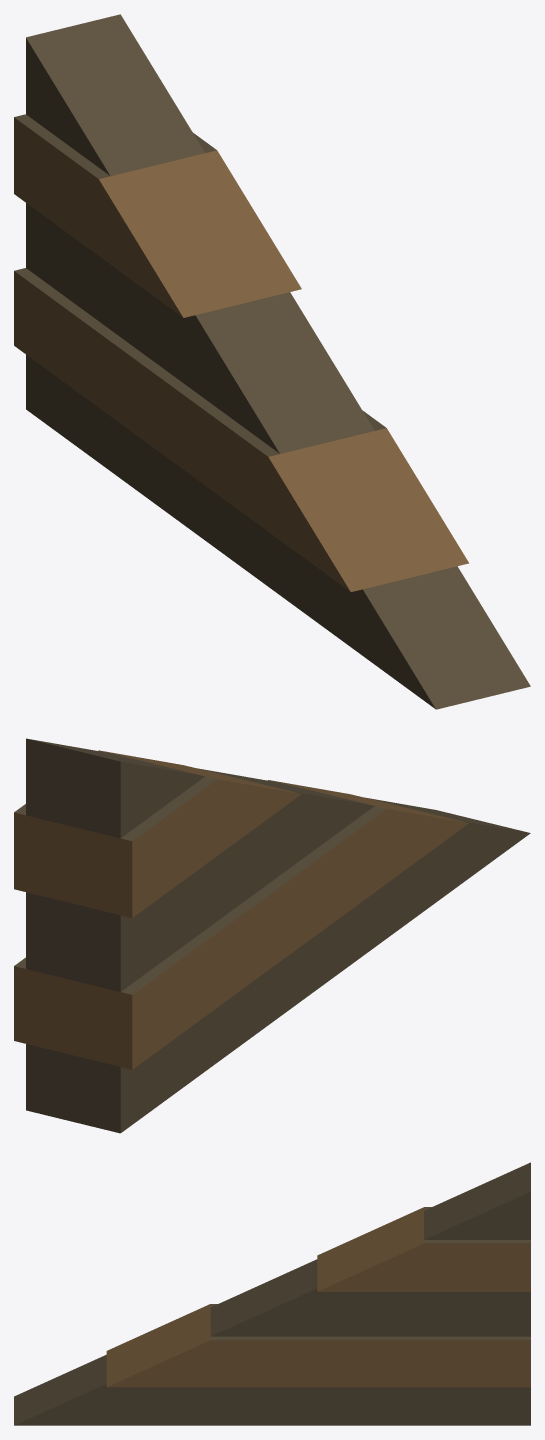
Rendered from steampunk_siding.fbx.
3 views of the same model, one above another, from view 1: azimuth 30°, elevation 25°; view 2: azimuth 150°, elevation 25°; view 3: azimuth 270°, elevation 25° (orthographic). The views are drawn at different scales.
Visible parts, largest first — view 1: Cube.039; view 2: Cube.039; view 3: Cube.039.
Part boxes in pixels (bbox=[...]): Cube.039: bbox=[14, 14, 530, 709]; Cube.039: bbox=[14, 738, 530, 1133]; Cube.039: bbox=[14, 1162, 530, 1425].
Bounding box in the file's own units: 0.5 × 1.5 × 3.
